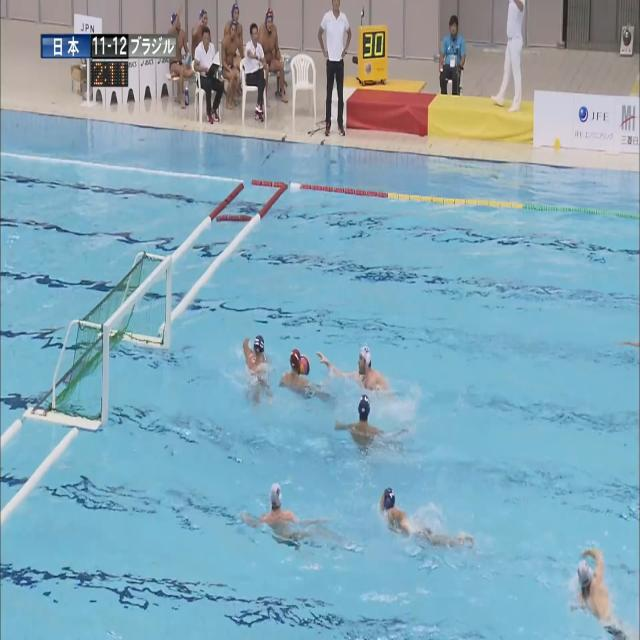ball: (299, 355, 310, 375)
